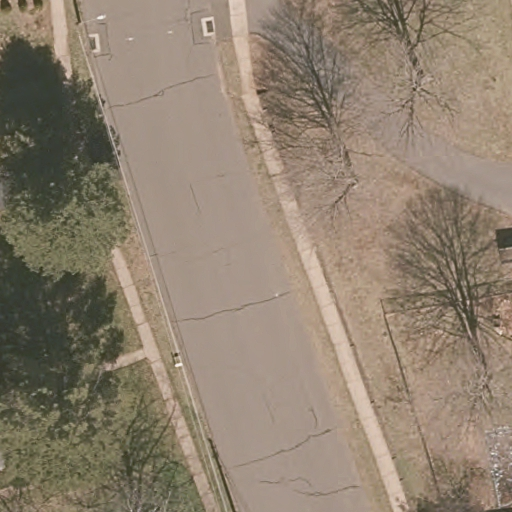DT: (73, 13, 107, 28)
